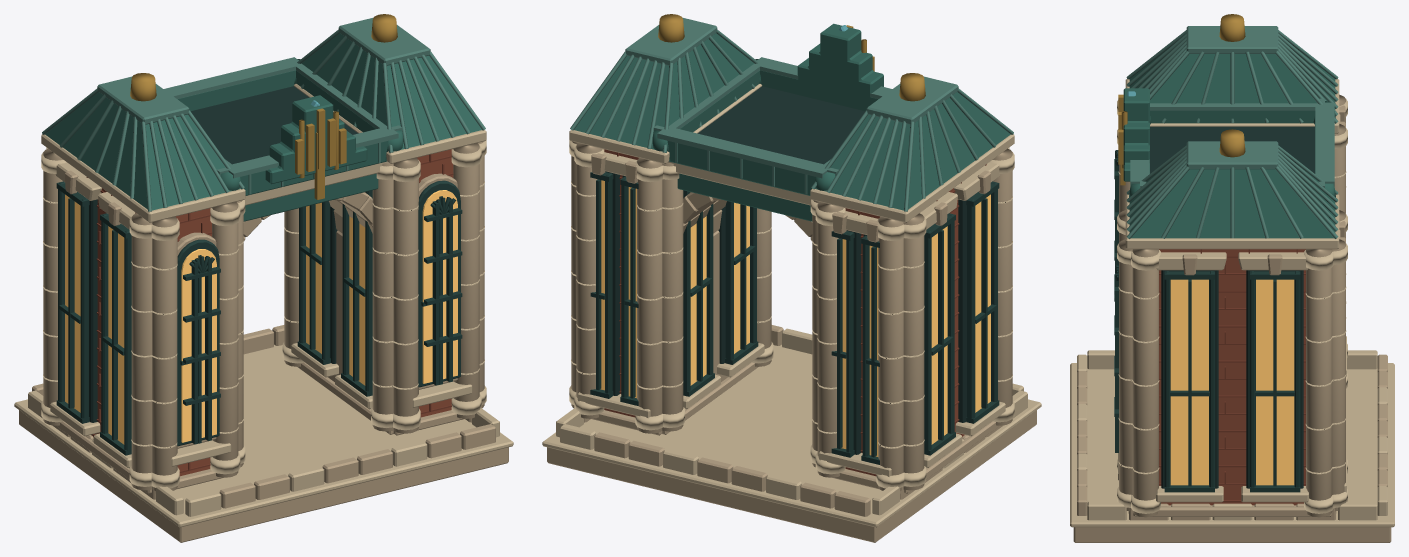
The picture shows the model from 3 angles, left to right: view 1: azimuth 30°, elevation 25°; view 2: azimuth 150°, elevation 25°; view 3: azimuth 270°, elevation 25°; orthographic projection.
Parts seen in each view (by area): view 1: expansion_teleport_gate_geometry; view 2: expansion_teleport_gate_geometry; view 3: expansion_teleport_gate_geometry.
Boxes of the visible parts, <box> form: expansion_teleport_gate_geometry: <box>14,14,513,542</box>; expansion_teleport_gate_geometry: <box>542,14,1041,542</box>; expansion_teleport_gate_geometry: <box>1070,14,1394,542</box>.
Size of the model in its own units: 1.04 by 1.12 by 0.8452.
